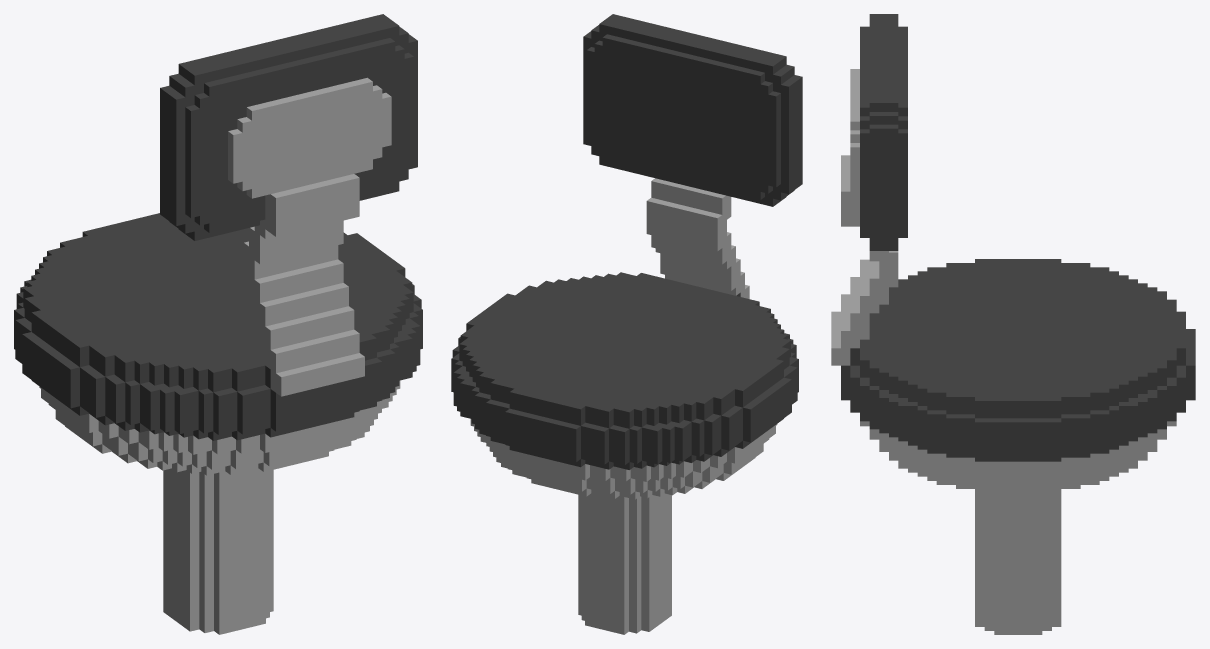
The model's file is chair.FBX.
3 views of the same model, side by side, from view 1: azimuth 30°, elevation 25°; view 2: azimuth 150°, elevation 25°; view 3: azimuth 270°, elevation 25° (orthographic). The views are drawn at different scales.
Visible parts, largest first — view 1: chair; view 2: chair; view 3: chair.
Boxes of the visible parts, box(x1,y1,x2,y2) form: chair: box(14, 14, 422, 634); chair: box(451, 14, 802, 634); chair: box(831, 14, 1195, 634).
Size of the model in its own units: 3.7 by 6.4 by 3.8.
1 material, 1 textured.
